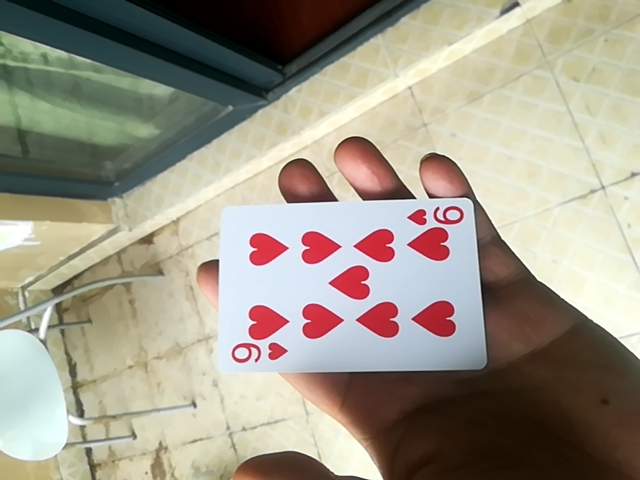hx 9: (215, 189, 485, 370)
